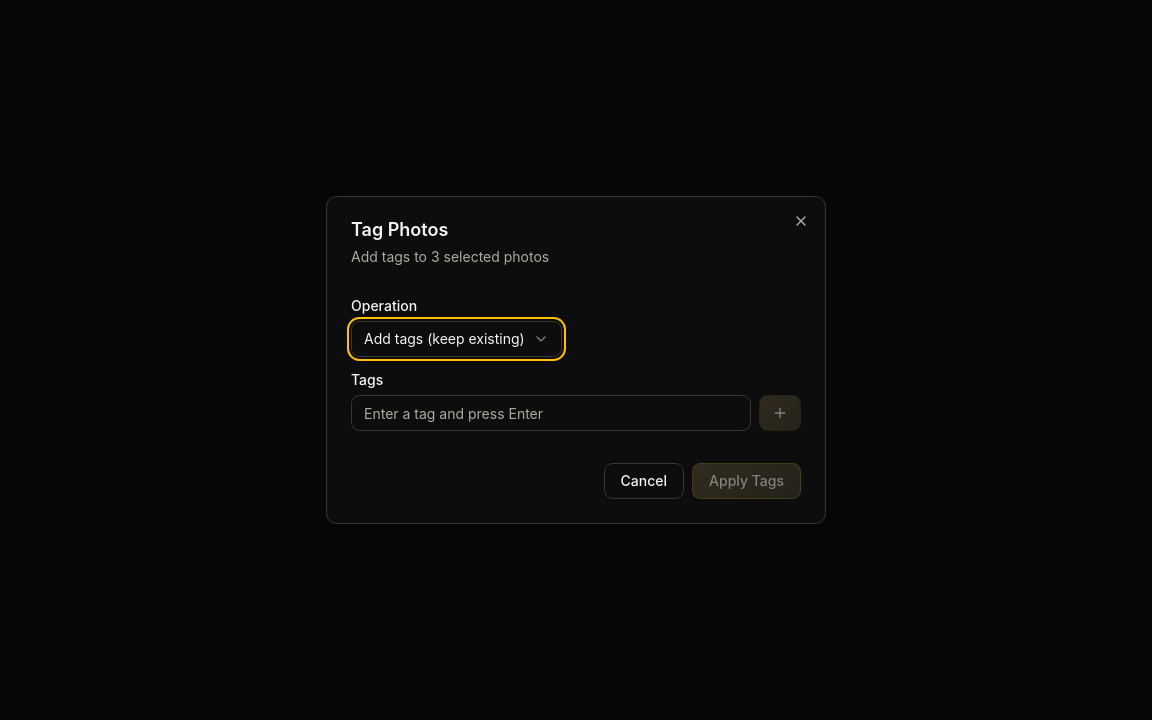
Test case: BatchTagDialog Component › Tag Input and Management › adds tag when add button is clicked
Type "landscape" into the field with placeholder "Enter a tag and press Enter".
click(551, 413); type("landscape")  # box [351,395,751,431]
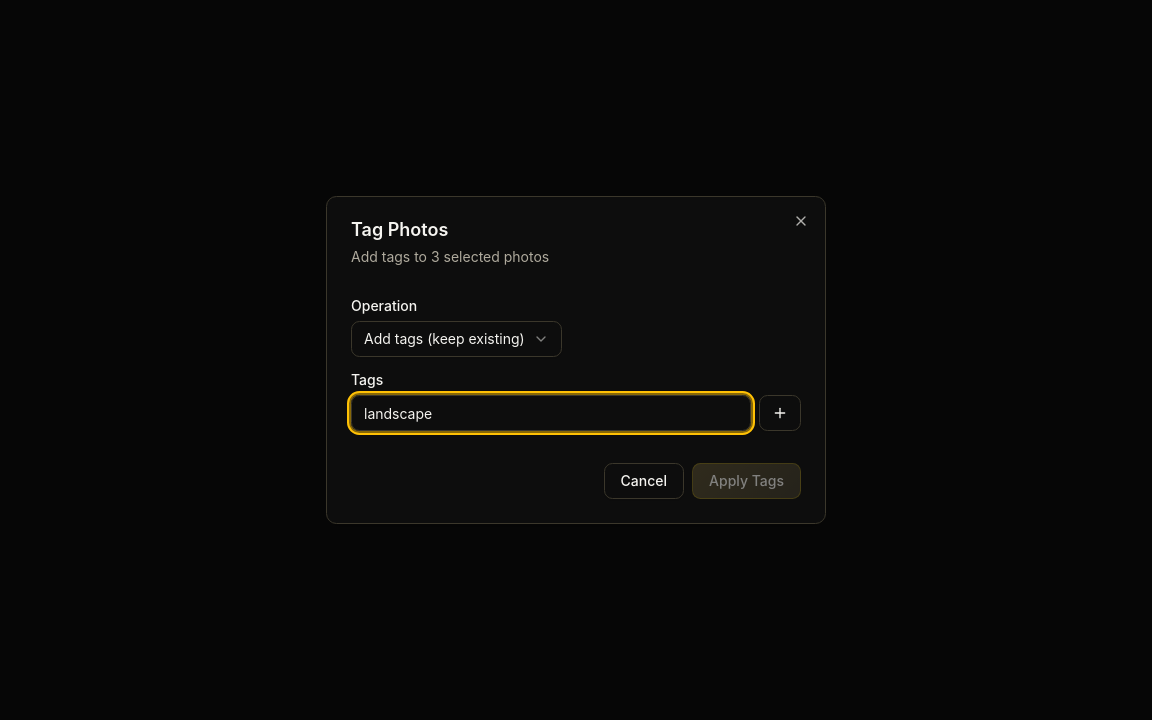
Click the 2nd button.
click(780, 413)  # box [759,395,801,431]
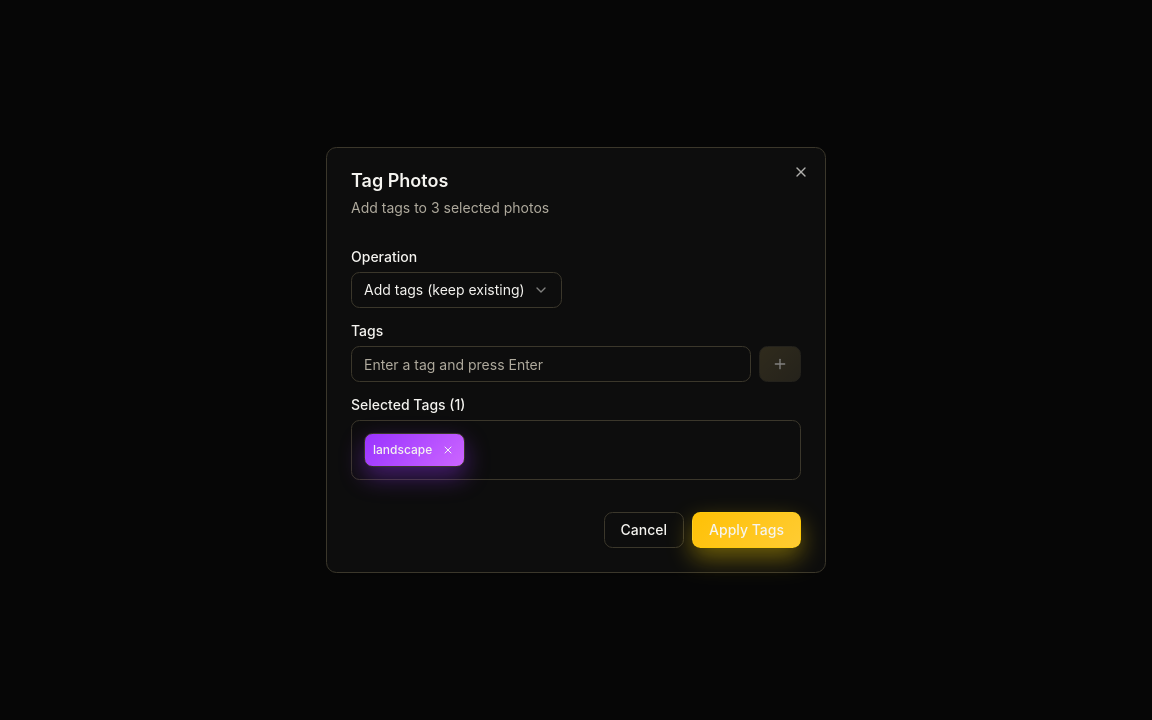
Expected: the text "landscape" is shown, [364,433,465,467]
Expected: the field with placeholder "Enter a tag and press Enter" is empty, [351,346,751,382]
